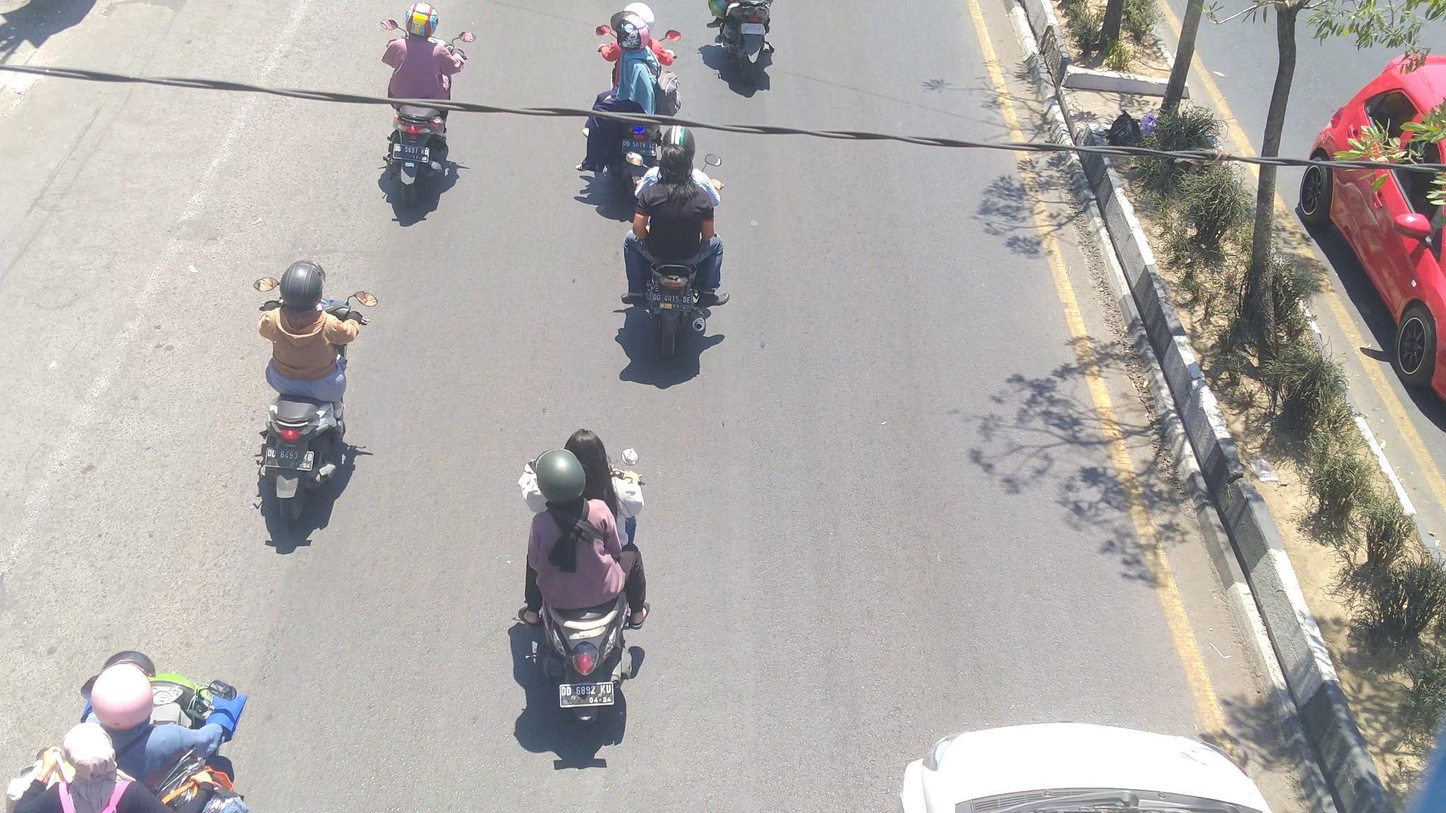Helmet: (85, 650, 166, 738), (526, 439, 597, 515), (274, 252, 333, 318), (658, 119, 698, 171), (399, 0, 445, 43), (609, 9, 652, 52), (622, 0, 659, 34)
bike: (519, 442, 650, 736), (248, 274, 378, 529), (620, 146, 730, 365), (377, 15, 477, 206), (593, 22, 682, 197), (712, 0, 778, 89)
no-helmet: (52, 712, 123, 792), (559, 425, 621, 501), (653, 138, 703, 196)
number-plate: (557, 681, 619, 709), (262, 445, 316, 472), (390, 140, 433, 165), (618, 135, 658, 156), (649, 290, 692, 309)
rider: (514, 439, 653, 630), (75, 650, 250, 785), (626, 140, 731, 308), (258, 258, 363, 406), (586, 9, 673, 179), (380, 0, 468, 115)
